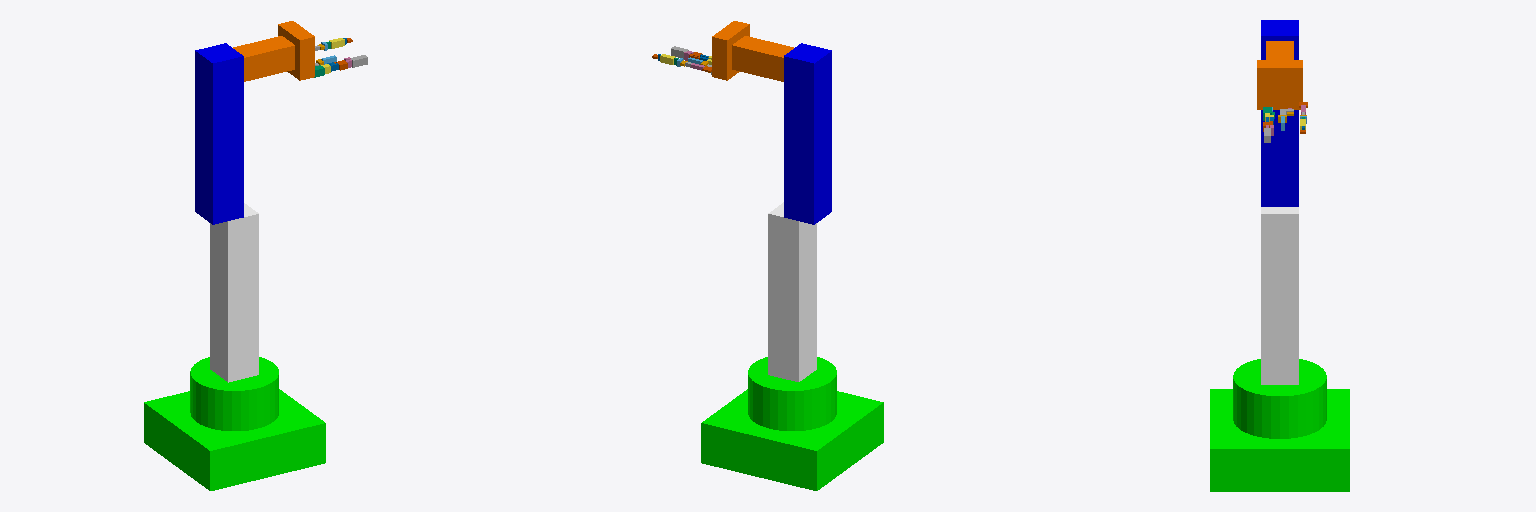
The robot description file, URDF, robot "robot":
<?xml version='1.0' encoding='utf-8'?>
<robot name="robot">
  <link name="base_link">
    <visual>
      <origin xyz="0 0 0.125" rpy="0 0 0" />
      <geometry>
        <box size="0.75 0.75 0.25" />
      </geometry>
      <material name="green" />
    </visual>
    <visual>
      <origin xyz="0 0 0.375" rpy="0 0 0" />
      <geometry>
        <cylinder length="0.25" radius="0.25" />
      </geometry>
      <material name="green">
        <color rgba="0 1 0 1" />
      </material>
    </visual>
    <collision>
      <geometry>
        <box size="0.75 0.75 0.5" />
      </geometry>
    </collision>
    <inertial>
      <mass value="0.5" />
      <inertia ixx="0.034" ixy="0.0" ixz="0.0" iyy="0.034" iyz="0.0" izz="0.034" />
    </inertial>
  </link>
  <link name="support_link">
    <visual>
      <origin xyz="0 0 0.5" rpy="0 0 0" />
      <geometry>
        <box size="0.2 0.2 1" />
      </geometry>
      <material name="white">
        <color rgba="1 1 1 1" />
      </material>
    </visual>
    <collision>
      <geometry>
        <box size="0.2 0.2 1" />
      </geometry>
    </collision>
    <inertial>
      <mass value="0.1" />
      <inertia ixx="0.01" ixy="0.0" ixz="0.0" iyy="0.01" iyz="0.0" izz="0.01" />
    </inertial>
  </link>
  <joint name="support_joint" type="continuous">
    <origin xyz="0 0 0.5" rpy="0 0 0" />
    <parent link="base_link" />
    <child link="support_link" />
    <axis xyz="0 0 1" />
  </joint>
  <link name="arm_link">
    <visual>
      <origin xyz="0 0 0.5" rpy="0 0 0" />
      <geometry>
        <box size="0.2 0.2 1" />
      </geometry>
      <material name="blue">
        <color rgba="0 0 1 1" />
      </material>
    </visual>
    <collision>
      <geometry>
        <box size="0.2 0.2 1" />
      </geometry>
    </collision>
    <inertial>
      <mass value="0.1" />
      <inertia ixx="0.01" ixy="0.0" ixz="0.0" iyy="0.01" iyz="0.0" izz="0.01" />
    </inertial>
  </link>
  <joint name="arm_joint" type="revolute">
    <origin xyz="-0.1 0 1" rpy="0 0 0" />
    <parent link="support_link" />
    <child link="arm_link" />
    <axis xyz="0 1 0" />
    <limit lower="-3.14" upper="3.14" effort="1.0" velocity="1.0" />
  </joint>
  <link name="wrist_link">
    <visual>
      <origin xyz="0 0 0.25" rpy="0 0 0" />
      <geometry>
        <box size="0.15 0.15 0.5" />
      </geometry>
      <material name="orange">
        <color rgba="1 0.5 0 1" />
      </material>
    </visual>
    <collision>
      <geometry>
        <box size="0.15 0.15 0.5" />
      </geometry>
    </collision>
    <inertial>
      <mass value="0.1" />
      <inertia ixx="0.01" ixy="0.0" ixz="0.0" iyy="0.01" iyz="0.0" izz="0.01" />
    </inertial>
  </link>
  <joint name="wrist_joint" type="fixed">
    <origin xyz="0 0 0.9" rpy="0 1.571 0" />
    <parent link="arm_link" />
    <child link="wrist_link" />
  </joint>
  <link name="palm_link">
    <visual>
      <origin xyz="0 0 0.05" rpy="0 0 0" />
      <geometry>
        <box size="0.25 0.25 0.1" />
      </geometry>
      <material name="orange" />
    </visual>
    <collision>
      <geometry>
        <box size="0.25 0.25 0.1" />
      </geometry>
    </collision>
    <inertial>
      <mass value="0.1" />
      <inertia ixx="0.01" ixy="0.0" ixz="0.0" iyy="0.01" iyz="0.0" izz="0.01" />
    </inertial>
  </link>
  <joint name="palm_joint" type="fixed">
    <origin xyz="0 0 0.45" rpy="0 0 0" />
    <parent link="wrist_link" />
    <child link="palm_link" />
  </joint>
  <link name="finger_link_0_0">
    <visual>
      <origin xyz="0 0 0.025" rpy="0 0 0" />
      <geometry>
        <box size="0.011 0.048 0.05" />
      </geometry>
    </visual>
    <collision>
      <geometry>
        <box size="0.011 0.048 0.05" />
      </geometry>
    </collision>
    <inertial>
      <mass value="0.008" />
      <inertia ixx="0.0" iyy="0.0" izz="0.0" ixy="0" ixz="0" iyz="0" />
    </inertial>
  </link>
  <joint name="finger_joint_palm_link_to_finger_link_0_0" type="revolute">
    <origin xyz="0.083 0.125 0.1" rpy="0 0 0" />
    <parent link="palm_link" />
    <child link="finger_link_0_0" />
    <axis xyz="-1.0 0.0 0.0" />
    <limit lower="-3.142" upper="3.142" effort="10" velocity="10" />
  </joint>
  <link name="finger_link_0_1">
    <visual>
      <origin xyz="0 0 0.041" rpy="0 0 0" />
      <geometry>
        <box size="0.022 0.023 0.082" />
      </geometry>
    </visual>
    <collision>
      <geometry>
        <box size="0.022 0.023 0.082" />
      </geometry>
    </collision>
    <inertial>
      <mass value="0.012" />
      <inertia ixx="0.0" iyy="0.0" izz="0.0" ixy="0" ixz="0" iyz="0" />
    </inertial>
  </link>
  <joint name="finger_joint_finger_link_0_0_to_finger_link_0_1" type="revolute">
    <origin xyz="0.0 0.0 0.05" rpy="0 0 0" />
    <parent link="finger_link_0_0" />
    <child link="finger_link_0_1" />
    <axis xyz="0.0 1.0 0.0" />
    <limit lower="-3.142" upper="3.142" effort="10" velocity="10" />
  </joint>
  <link name="finger_link_0_2">
    <visual>
      <origin xyz="0 0 0.018" rpy="0 0 0" />
      <geometry>
        <box size="0.022 0.019 0.036" />
      </geometry>
    </visual>
    <collision>
      <geometry>
        <box size="0.022 0.019 0.036" />
      </geometry>
    </collision>
    <inertial>
      <mass value="0.005" />
      <inertia ixx="0.0" iyy="0.0" izz="0.0" ixy="0" ixz="0" iyz="0" />
    </inertial>
  </link>
  <joint name="finger_joint_finger_link_0_1_to_finger_link_0_2" type="revolute">
    <origin xyz="0.0 0.0 0.082" rpy="0 0 0" />
    <parent link="finger_link_0_1" />
    <child link="finger_link_0_2" />
    <axis xyz="1.0 1.0 0.0" />
    <limit lower="-3.142" upper="3.142" effort="10" velocity="10" />
  </joint>
  <link name="finger_link_0_3">
    <visual>
      <origin xyz="0 0 0.014" rpy="0 0 0" />
      <geometry>
        <box size="0.017 0.04 0.028" />
      </geometry>
    </visual>
    <collision>
      <geometry>
        <box size="0.017 0.04 0.028" />
      </geometry>
    </collision>
    <inertial>
      <mass value="0.006" />
      <inertia ixx="0.0" iyy="0.0" izz="0.0" ixy="0" ixz="0" iyz="0" />
    </inertial>
  </link>
  <joint name="finger_joint_finger_link_0_2_to_finger_link_0_3" type="revolute">
    <origin xyz="0.0 0.0 0.036" rpy="0 0 0" />
    <parent link="finger_link_0_2" />
    <child link="finger_link_0_3" />
    <axis xyz="1.0 0.0 0.0" />
    <limit lower="-3.142" upper="3.142" effort="10" velocity="10" />
  </joint>
  <link name="finger_link_0_4">
    <visual>
      <origin xyz="0 0 0.01" rpy="0 0 0" />
      <geometry>
        <box size="0.038 0.041 0.02" />
      </geometry>
    </visual>
    <collision>
      <geometry>
        <box size="0.038 0.041 0.02" />
      </geometry>
    </collision>
    <inertial>
      <mass value="0.009" />
      <inertia ixx="0.0" iyy="0.0" izz="0.0" ixy="0" ixz="0" iyz="0" />
    </inertial>
  </link>
  <joint name="finger_joint_finger_link_0_3_to_finger_link_0_4" type="revolute">
    <origin xyz="0.0 0.0 0.028" rpy="0 0 0" />
    <parent link="finger_link_0_3" />
    <child link="finger_link_0_4" />
    <axis xyz="1.0 0.0 0.0" />
    <limit lower="-3.142" upper="3.142" effort="10" velocity="10" />
  </joint>
  <link name="finger_link_0_5">
    <visual>
      <origin xyz="0 0 0.013" rpy="0 0 0" />
      <geometry>
        <box size="0.041 0.012 0.026" />
      </geometry>
    </visual>
    <collision>
      <geometry>
        <box size="0.041 0.012 0.026" />
      </geometry>
    </collision>
    <inertial>
      <mass value="0.004" />
      <inertia ixx="0.0" iyy="0.0" izz="0.0" ixy="0" ixz="0" iyz="0" />
    </inertial>
  </link>
  <joint name="finger_joint_finger_link_0_4_to_finger_link_0_5" type="revolute">
    <origin xyz="0.0 0.0 0.02" rpy="0 0 0" />
    <parent link="finger_link_0_4" />
    <child link="finger_link_0_5" />
    <axis xyz="1.0 0.0 0.0" />
    <limit lower="-3.142" upper="3.142" effort="10" velocity="10" />
  </joint>
  <link name="finger_link_0_6">
    <visual>
      <origin xyz="0 0 0.042" rpy="0 0 0" />
      <geometry>
        <box size="0.041 0.032 0.084" />
      </geometry>
    </visual>
    <collision>
      <geometry>
        <box size="0.041 0.032 0.084" />
      </geometry>
    </collision>
    <inertial>
      <mass value="0.033" />
      <inertia ixx="0.0" iyy="0.0" izz="0.0" ixy="0" ixz="0" iyz="0" />
    </inertial>
  </link>
  <joint name="finger_joint_finger_link_0_5_to_finger_link_0_6" type="revolute">
    <origin xyz="0.0 0.0 0.026" rpy="0 0 0" />
    <parent link="finger_link_0_5" />
    <child link="finger_link_0_6" />
    <axis xyz="0.0 1.0 0.0" />
    <limit lower="-3.142" upper="3.142" effort="10" velocity="10" />
  </joint>
  <link name="finger_link_0_7">
    <visual>
      <origin xyz="0 0 0.0115" rpy="0 0 0" />
      <geometry>
        <box size="0.034 0.013 0.023" />
      </geometry>
    </visual>
    <collision>
      <geometry>
        <box size="0.034 0.013 0.023" />
      </geometry>
    </collision>
    <inertial>
      <mass value="0.003" />
      <inertia ixx="0.0" iyy="0.0" izz="0.0" ixy="0" ixz="0" iyz="0" />
    </inertial>
  </link>
  <joint name="finger_joint_finger_link_0_6_to_finger_link_0_7" type="revolute">
    <origin xyz="0.0 0.0 0.084" rpy="0 0 0" />
    <parent link="finger_link_0_6" />
    <child link="finger_link_0_7" />
    <axis xyz="0.0 1.0 0.0" />
    <limit lower="-3.142" upper="3.142" effort="10" velocity="10" />
  </joint>
  <link name="finger_link_0_8">
    <visual>
      <origin xyz="0 0 0.0145" rpy="0 0 0" />
      <geometry>
        <box size="0.014 0.032 0.029" />
      </geometry>
    </visual>
    <collision>
      <geometry>
        <box size="0.014 0.032 0.029" />
      </geometry>
    </collision>
    <inertial>
      <mass value="0.004" />
      <inertia ixx="0.0" iyy="0.0" izz="0.0" ixy="0" ixz="0" iyz="0" />
    </inertial>
  </link>
  <joint name="finger_joint_finger_link_0_7_to_finger_link_0_8" type="revolute">
    <origin xyz="0.0 0.0 0.023" rpy="0 0 0" />
    <parent link="finger_link_0_7" />
    <child link="finger_link_0_8" />
    <axis xyz="1.0 0.0 0.0" />
    <limit lower="-3.142" upper="3.142" effort="10" velocity="10" />
  </joint>
  <link name="finger_link_1_0">
    <visual>
      <origin xyz="0 0 0.0095" rpy="0 0 0" />
      <geometry>
        <box size="0.025 0.02 0.019" />
      </geometry>
    </visual>
    <collision>
      <geometry>
        <box size="0.025 0.02 0.019" />
      </geometry>
    </collision>
    <inertial>
      <mass value="0.003" />
      <inertia ixx="0.0" iyy="0.0" izz="0.0" ixy="0" ixz="0" iyz="0" />
    </inertial>
  </link>
  <joint name="finger_joint_palm_link_to_finger_link_1_0" type="revolute">
    <origin xyz="0.125 0.054 0.1" rpy="0 0 0" />
    <parent link="palm_link" />
    <child link="finger_link_1_0" />
    <axis xyz="0.0 1.0 0.0" />
    <limit lower="-3.142" upper="3.142" effort="10" velocity="10" />
  </joint>
  <link name="finger_link_1_1">
    <visual>
      <origin xyz="0 0 0.008" rpy="0 0 0" />
      <geometry>
        <box size="0.028 0.041 0.016" />
      </geometry>
    </visual>
    <collision>
      <geometry>
        <box size="0.028 0.041 0.016" />
      </geometry>
    </collision>
    <inertial>
      <mass value="0.006" />
      <inertia ixx="0.0" iyy="0.0" izz="0.0" ixy="0" ixz="0" iyz="0" />
    </inertial>
  </link>
  <joint name="finger_joint_finger_link_1_0_to_finger_link_1_1" type="revolute">
    <origin xyz="0.0 0.0 0.019" rpy="0 0 0" />
    <parent link="finger_link_1_0" />
    <child link="finger_link_1_1" />
    <axis xyz="1.0 0.0 0.0" />
    <limit lower="-3.142" upper="3.142" effort="10" velocity="10" />
  </joint>
  <link name="finger_link_1_2">
    <visual>
      <origin xyz="0 0 0.014" rpy="0 0 0" />
      <geometry>
        <box size="0.012 0.036 0.028" />
      </geometry>
    </visual>
    <collision>
      <geometry>
        <box size="0.012 0.036 0.028" />
      </geometry>
    </collision>
    <inertial>
      <mass value="0.004" />
      <inertia ixx="0.0" iyy="0.0" izz="0.0" ixy="0" ixz="0" iyz="0" />
    </inertial>
  </link>
  <joint name="finger_joint_finger_link_1_1_to_finger_link_1_2" type="revolute">
    <origin xyz="0.0 0.0 0.016" rpy="0 0 0" />
    <parent link="finger_link_1_1" />
    <child link="finger_link_1_2" />
    <axis xyz="0.0 1.0 0.0" />
    <limit lower="-3.142" upper="3.142" effort="10" velocity="10" />
  </joint>
  <link name="finger_link_2_0">
    <visual>
      <origin xyz="0 0 0.0245" rpy="0 0 0" />
      <geometry>
        <box size="0.035 0.016 0.049" />
      </geometry>
    </visual>
    <collision>
      <geometry>
        <box size="0.035 0.016 0.049" />
      </geometry>
    </collision>
    <inertial>
      <mass value="0.008" />
      <inertia ixx="0.0" iyy="0.0" izz="0.0" ixy="0" ixz="0" iyz="0" />
    </inertial>
  </link>
  <joint name="finger_joint_palm_link_to_finger_link_2_0" type="revolute">
    <origin xyz="0.125 -0.043 0.1" rpy="0 0 0" />
    <parent link="palm_link" />
    <child link="finger_link_2_0" />
    <axis xyz="0.0 1.0 0.0" />
    <limit lower="-3.142" upper="3.142" effort="10" velocity="10" />
  </joint>
  <link name="finger_link_2_1">
    <visual>
      <origin xyz="0 0 0.0155" rpy="0 0 0" />
      <geometry>
        <box size="0.026 0.037 0.031" />
      </geometry>
    </visual>
    <collision>
      <geometry>
        <box size="0.026 0.037 0.031" />
      </geometry>
    </collision>
    <inertial>
      <mass value="0.009" />
      <inertia ixx="0.0" iyy="0.0" izz="0.0" ixy="0" ixz="0" iyz="0" />
    </inertial>
  </link>
  <joint name="finger_joint_finger_link_2_0_to_finger_link_2_1" type="revolute">
    <origin xyz="0.0 0.0 0.049" rpy="0 0 0" />
    <parent link="finger_link_2_0" />
    <child link="finger_link_2_1" />
    <axis xyz="0.0 1.0 0.0" />
    <limit lower="-3.142" upper="3.142" effort="10" velocity="10" />
  </joint>
  <link name="finger_link_2_2">
    <visual>
      <origin xyz="0 0 0.0215" rpy="0 0 0" />
      <geometry>
        <box size="0.025 0.027 0.043" />
      </geometry>
    </visual>
    <collision>
      <geometry>
        <box size="0.025 0.027 0.043" />
      </geometry>
    </collision>
    <inertial>
      <mass value="0.009" />
      <inertia ixx="0.0" iyy="0.0" izz="0.0" ixy="0" ixz="0" iyz="0" />
    </inertial>
  </link>
  <joint name="finger_joint_finger_link_2_1_to_finger_link_2_2" type="revolute">
    <origin xyz="0.0 0.0 0.031" rpy="0 0 0" />
    <parent link="finger_link_2_1" />
    <child link="finger_link_2_2" />
    <axis xyz="0.0 1.0 0.0" />
    <limit lower="-3.142" upper="3.142" effort="10" velocity="10" />
  </joint>
  <link name="finger_link_2_3">
    <visual>
      <origin xyz="0 0 0.024" rpy="0 0 0" />
      <geometry>
        <box size="0.033 0.02 0.048" />
      </geometry>
    </visual>
    <collision>
      <geometry>
        <box size="0.033 0.02 0.048" />
      </geometry>
    </collision>
    <inertial>
      <mass value="0.01" />
      <inertia ixx="0.0" iyy="0.0" izz="0.0" ixy="0" ixz="0" iyz="0" />
    </inertial>
  </link>
  <joint name="finger_joint_finger_link_2_2_to_finger_link_2_3" type="revolute">
    <origin xyz="0.0 0.0 0.043" rpy="0 0 0" />
    <parent link="finger_link_2_2" />
    <child link="finger_link_2_3" />
    <axis xyz="0.0 1.0 0.0" />
    <limit lower="-3.142" upper="3.142" effort="10" velocity="10" />
  </joint>
  <link name="finger_link_2_4">
    <visual>
      <origin xyz="0 0 0.0345" rpy="0 0 0" />
      <geometry>
        <box size="0.029 0.016 0.069" />
      </geometry>
    </visual>
    <collision>
      <geometry>
        <box size="0.029 0.016 0.069" />
      </geometry>
    </collision>
    <inertial>
      <mass value="0.01" />
      <inertia ixx="0.0" iyy="0.0" izz="0.0" ixy="0" ixz="0" iyz="0" />
    </inertial>
  </link>
  <joint name="finger_joint_finger_link_2_3_to_finger_link_2_4" type="revolute">
    <origin xyz="0.0 0.0 0.048" rpy="0 0 0" />
    <parent link="finger_link_2_3" />
    <child link="finger_link_2_4" />
    <axis xyz="1.0 0.0 0.0" />
    <limit lower="-3.142" upper="3.142" effort="10" velocity="10" />
  </joint>
  <link name="finger_link_2_5">
    <visual>
      <origin xyz="0 0 0.0175" rpy="0 0 0" />
      <geometry>
        <box size="0.047 0.017 0.035" />
      </geometry>
    </visual>
    <collision>
      <geometry>
        <box size="0.047 0.017 0.035" />
      </geometry>
    </collision>
    <inertial>
      <mass value="0.008" />
      <inertia ixx="0.0" iyy="0.0" izz="0.0" ixy="0" ixz="0" iyz="0" />
    </inertial>
  </link>
  <joint name="finger_joint_finger_link_2_4_to_finger_link_2_5" type="revolute">
    <origin xyz="0.0 0.0 0.069" rpy="0 0 0" />
    <parent link="finger_link_2_4" />
    <child link="finger_link_2_5" />
    <axis xyz="0.0 1.0 0.0" />
    <limit lower="-3.142" upper="3.142" effort="10" velocity="10" />
  </joint>
  <link name="finger_link_3_0">
    <visual>
      <origin xyz="0 0 0.048" rpy="0 0 0" />
      <geometry>
        <box size="0.011 0.032 0.096" />
      </geometry>
    </visual>
    <collision>
      <geometry>
        <box size="0.011 0.032 0.096" />
      </geometry>
    </collision>
    <inertial>
      <mass value="0.01" />
      <inertia ixx="0.0" iyy="0.0" izz="0.0" ixy="0" ixz="0" iyz="0" />
    </inertial>
  </link>
  <joint name="finger_joint_palm_link_to_finger_link_3_0" type="revolute">
    <origin xyz="0.125 0.014 0.1" rpy="0 0 0" />
    <parent link="palm_link" />
    <child link="finger_link_3_0" />
    <axis xyz="0.0 1.0 0.0" />
    <limit lower="-3.142" upper="3.142" effort="10" velocity="10" />
  </joint>
  <link name="finger_link_3_1">
    <visual>
      <origin xyz="0 0 0.015" rpy="0 0 0" />
      <geometry>
        <box size="0.036 0.047 0.03" />
      </geometry>
    </visual>
    <collision>
      <geometry>
        <box size="0.036 0.047 0.03" />
      </geometry>
    </collision>
    <inertial>
      <mass value="0.015" />
      <inertia ixx="0.0" iyy="0.0" izz="0.0" ixy="0" ixz="0" iyz="0" />
    </inertial>
  </link>
  <joint name="finger_joint_finger_link_3_0_to_finger_link_3_1" type="revolute">
    <origin xyz="0.0 0.0 0.096" rpy="0 0 0" />
    <parent link="finger_link_3_0" />
    <child link="finger_link_3_1" />
    <axis xyz="0.0 1.0 0.0" />
    <limit lower="-3.142" upper="3.142" effort="10" velocity="10" />
  </joint>
  <link name="finger_link_3_2">
    <visual>
      <origin xyz="0 0 0.043" rpy="0 0 0" />
      <geometry>
        <box size="0.049 0.021 0.086" />
      </geometry>
    </visual>
    <collision>
      <geometry>
        <box size="0.049 0.021 0.086" />
      </geometry>
    </collision>
    <inertial>
      <mass value="0.027" />
      <inertia ixx="0.0" iyy="0.0" izz="0.0" ixy="0" ixz="0" iyz="0" />
    </inertial>
  </link>
  <joint name="finger_joint_finger_link_3_1_to_finger_link_3_2" type="revolute">
    <origin xyz="0.0 0.0 0.03" rpy="0 0 0" />
    <parent link="finger_link_3_1" />
    <child link="finger_link_3_2" />
    <axis xyz="1.0 0.0 0.0" />
    <limit lower="-3.142" upper="3.142" effort="10" velocity="10" />
  </joint>
  <link name="finger_link_4_0">
    <visual>
      <origin xyz="0 0 0.041" rpy="0 0 0" />
      <geometry>
        <box size="0.045 0.047 0.082" />
      </geometry>
    </visual>
    <collision>
      <geometry>
        <box size="0.045 0.047 0.082" />
      </geometry>
    </collision>
    <inertial>
      <mass value="0.052" />
      <inertia ixx="0.0" iyy="0.0" izz="0.0" ixy="0" ixz="0" iyz="0" />
    </inertial>
  </link>
  <joint name="finger_joint_palm_link_to_finger_link_4_0" type="revolute">
    <origin xyz="0.125 -0.066 0.1" rpy="0 0 0" />
    <parent link="palm_link" />
    <child link="finger_link_4_0" />
    <axis xyz="0.0 1.0 0.0" />
    <limit lower="-3.142" upper="3.142" effort="10" velocity="10" />
  </joint>
  <link name="finger_link_4_1">
    <visual>
      <origin xyz="0 0 0.0225" rpy="0 0 0" />
      <geometry>
        <box size="0.044 0.03 0.045" />
      </geometry>
    </visual>
    <collision>
      <geometry>
        <box size="0.044 0.03 0.045" />
      </geometry>
    </collision>
    <inertial>
      <mass value="0.018" />
      <inertia ixx="0.0" iyy="0.0" izz="0.0" ixy="0" ixz="0" iyz="0" />
    </inertial>
  </link>
  <joint name="finger_joint_finger_link_4_0_to_finger_link_4_1" type="revolute">
    <origin xyz="0.0 0.0 0.082" rpy="0 0 0" />
    <parent link="finger_link_4_0" />
    <child link="finger_link_4_1" />
    <axis xyz="0.0 1.0 0.0" />
    <limit lower="-3.142" upper="3.142" effort="10" velocity="10" />
  </joint>
  <link name="finger_link_4_2">
    <visual>
      <origin xyz="0 0 0.028" rpy="0 0 0" />
      <geometry>
        <box size="0.036 0.015 0.056" />
      </geometry>
    </visual>
    <collision>
      <geometry>
        <box size="0.036 0.015 0.056" />
      </geometry>
    </collision>
    <inertial>
      <mass value="0.009" />
      <inertia ixx="0.0" iyy="0.0" izz="0.0" ixy="0" ixz="0" iyz="0" />
    </inertial>
  </link>
  <joint name="finger_joint_finger_link_4_1_to_finger_link_4_2" type="revolute">
    <origin xyz="0.0 0.0 0.045" rpy="0 0 0" />
    <parent link="finger_link_4_1" />
    <child link="finger_link_4_2" />
    <axis xyz="0.0 1.0 0.0" />
    <limit lower="-3.142" upper="3.142" effort="10" velocity="10" />
  </joint>
  <link name="finger_link_4_3">
    <visual>
      <origin xyz="0 0 0.025" rpy="0 0 0" />
      <geometry>
        <box size="0.034 0.044 0.05" />
      </geometry>
    </visual>
    <collision>
      <geometry>
        <box size="0.034 0.044 0.05" />
      </geometry>
    </collision>
    <inertial>
      <mass value="0.022" />
      <inertia ixx="0.0" iyy="0.0" izz="0.0" ixy="0" ixz="0" iyz="0" />
    </inertial>
  </link>
  <joint name="finger_joint_finger_link_4_2_to_finger_link_4_3" type="revolute">
    <origin xyz="0.0 0.0 0.056" rpy="0 0 0" />
    <parent link="finger_link_4_2" />
    <child link="finger_link_4_3" />
    <axis xyz="1.0 0.0 0.0" />
    <limit lower="-3.142" upper="3.142" effort="10" velocity="10" />
  </joint>
  <link name="finger_link_4_4">
    <visual>
      <origin xyz="0 0 0.0175" rpy="0 0 0" />
      <geometry>
        <box size="0.04 0.02 0.035" />
      </geometry>
    </visual>
    <collision>
      <geometry>
        <box size="0.04 0.02 0.035" />
      </geometry>
    </collision>
    <inertial>
      <mass value="0.008" />
      <inertia ixx="0.0" iyy="0.0" izz="0.0" ixy="0" ixz="0" iyz="0" />
    </inertial>
  </link>
  <joint name="finger_joint_finger_link_4_3_to_finger_link_4_4" type="revolute">
    <origin xyz="0.0 0.0 0.05" rpy="0 0 0" />
    <parent link="finger_link_4_3" />
    <child link="finger_link_4_4" />
    <axis xyz="1.0 0.0 0.0" />
    <limit lower="-3.142" upper="3.142" effort="10" velocity="10" />
  </joint>
  <link name="finger_link_4_5">
    <visual>
      <origin xyz="0 0 0.0495" rpy="0 0 0" />
      <geometry>
        <box size="0.044 0.039 0.099" />
      </geometry>
    </visual>
    <collision>
      <geometry>
        <box size="0.044 0.039 0.099" />
      </geometry>
    </collision>
    <inertial>
      <mass value="0.051" />
      <inertia ixx="0.0" iyy="0.0" izz="0.0" ixy="0" ixz="0" iyz="0" />
    </inertial>
  </link>
  <joint name="finger_joint_finger_link_4_4_to_finger_link_4_5" type="revolute">
    <origin xyz="0.0 0.0 0.035" rpy="0 0 0" />
    <parent link="finger_link_4_4" />
    <child link="finger_link_4_5" />
    <axis xyz="1.0 1.0 0.0" />
    <limit lower="-3.142" upper="3.142" effort="10" velocity="10" />
  </joint>
</robot>

--- Render facts (derived) ---
Views: 3 orthographic renders of the robot side by side, from view 1: azimuth 30°, elevation 25°; view 2: azimuth 150°, elevation 25°; view 3: azimuth 270°, elevation 25°.
Robot: robot — 32 links, 31 joints (28 revolute, 1 continuous, 2 fixed); root link base_link; default pose: all joints at 0.
Visible links, largest first — view 1: base_link, arm_link, support_link, wrist_link, palm_link; view 2: base_link, arm_link, support_link, wrist_link, palm_link; view 3: base_link, support_link, arm_link, palm_link, wrist_link.
Link boxes in pixels (<box>): base_link: <box>144,357,325,490</box>; arm_link: <box>195,43,243,224</box>; support_link: <box>210,203,258,382</box>; wrist_link: <box>233,36,294,81</box>; palm_link: <box>278,21,314,80</box>; base_link: <box>701,357,883,490</box>; arm_link: <box>784,43,831,224</box>; support_link: <box>768,202,816,381</box>; wrist_link: <box>732,36,793,81</box>; palm_link: <box>712,21,749,80</box>; base_link: <box>1210,359,1349,491</box>; support_link: <box>1261,207,1298,384</box>; arm_link: <box>1261,20,1298,206</box>; palm_link: <box>1257,60,1302,109</box>; wrist_link: <box>1266,41,1293,59</box>.
Bounding box of the posed robot: 1.2 × 0.75 × 2.52 m (x, y, z).
Geometry: primitives only (box / cylinder / sphere), no mesh files.